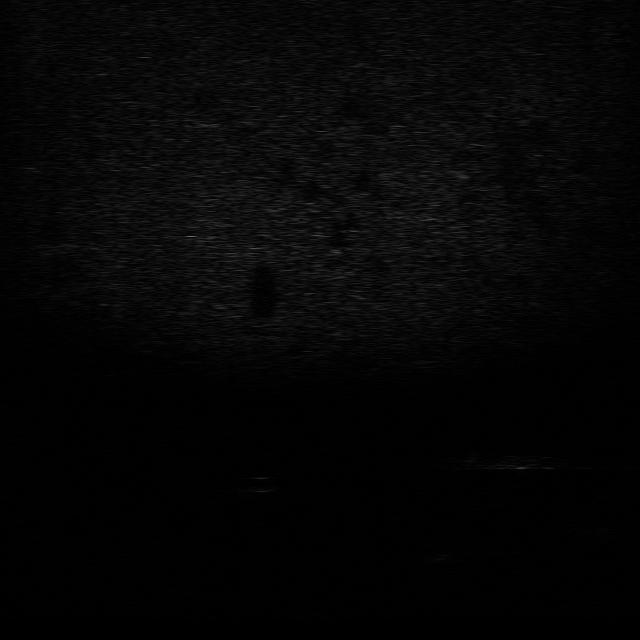ball: (234, 471, 284, 497)
circle cage: (535, 501, 617, 543)
human body: (438, 447, 568, 475)
